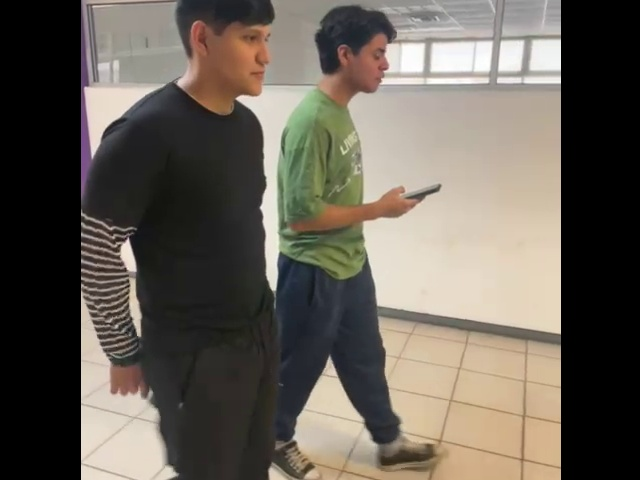mixto2: (397, 172, 445, 205)
